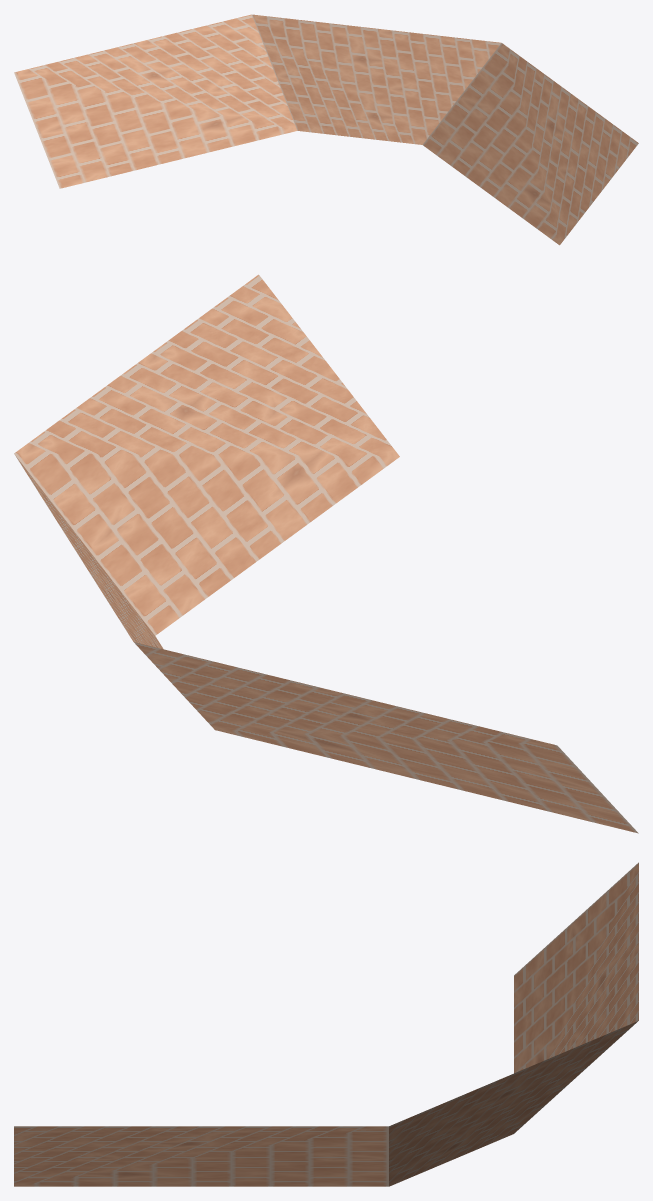
File: Temp_Fold_Rev.fbx
3 views of the same model, one above another, from view 1: azimuth 30°, elevation 25°; view 2: azimuth 150°, elevation 25°; view 3: azimuth 270°, elevation 25° (orthographic). The views are drawn at different scales.
Parts seen in each view (by area): view 1: Temp_Fold_Rev; view 2: Temp_Fold_Rev; view 3: Temp_Fold_Rev.
Part boxes in pixels (box(x1,y1,x2,y2)): Temp_Fold_Rev: box(14, 14, 638, 245); Temp_Fold_Rev: box(14, 274, 638, 833); Temp_Fold_Rev: box(14, 862, 638, 1186).
Size of the model in its own units: 125 by 25 by 125.
1 material, 1 textured.
